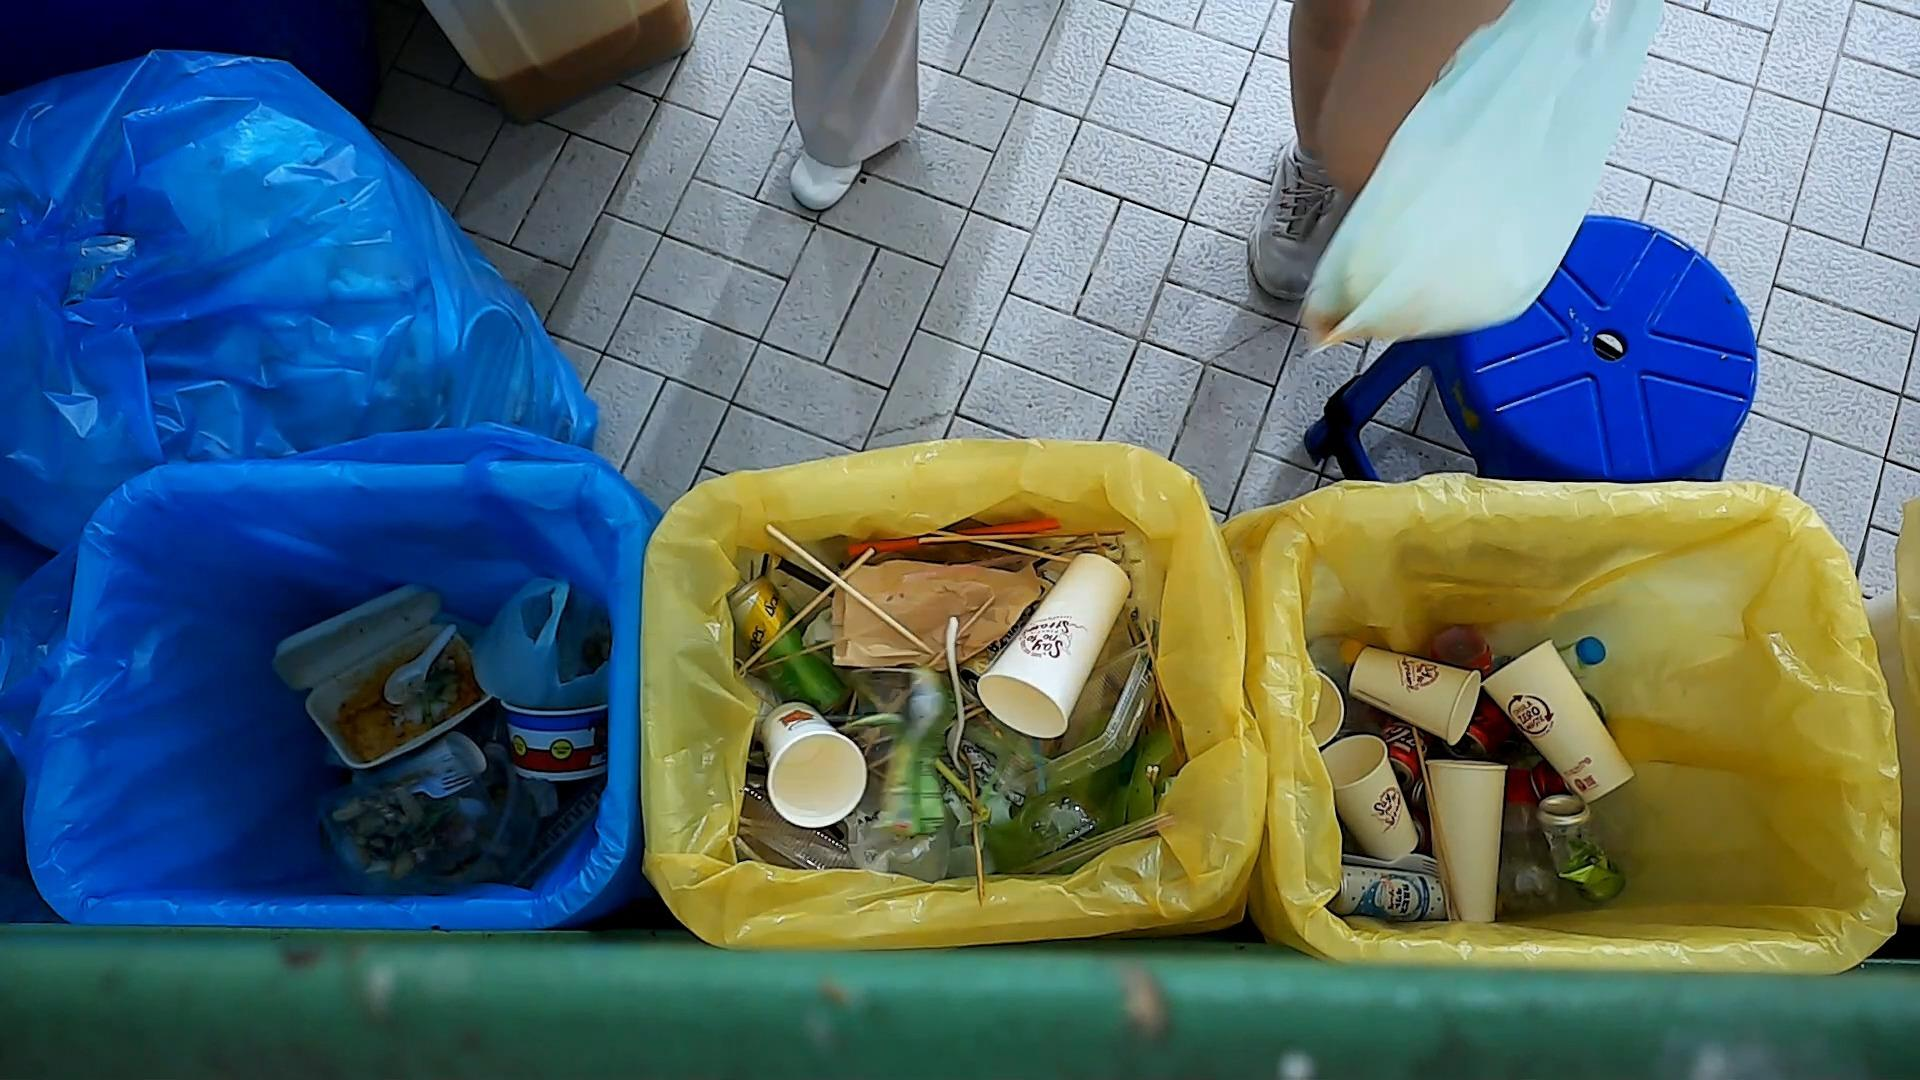can: (727, 572, 855, 719), (1532, 791, 1630, 909), (1325, 864, 1449, 923)
dirty food container: (268, 572, 492, 777), (303, 733, 566, 901)
filled plastic bag: (1291, 0, 1672, 369), (467, 570, 616, 713)
food container: (993, 634, 1160, 800), (493, 694, 611, 786)
paper bag: (823, 556, 1036, 667)
plastic cutlery: (381, 621, 463, 709), (940, 612, 973, 777), (1336, 849, 1441, 881)
snack packaging: (874, 663, 955, 841)
sticks: (762, 522, 940, 658), (736, 543, 878, 675), (1407, 724, 1465, 924), (746, 617, 881, 678), (923, 525, 1072, 567), (923, 593, 1000, 675), (1135, 615, 1178, 752), (915, 525, 1131, 547), (963, 746, 988, 909)
straw: (897, 550, 1036, 592)
zero waste cup: (976, 550, 1133, 740), (1477, 634, 1639, 810), (753, 698, 868, 829), (1345, 642, 1484, 748), (1423, 757, 1510, 924), (1319, 732, 1422, 861)
